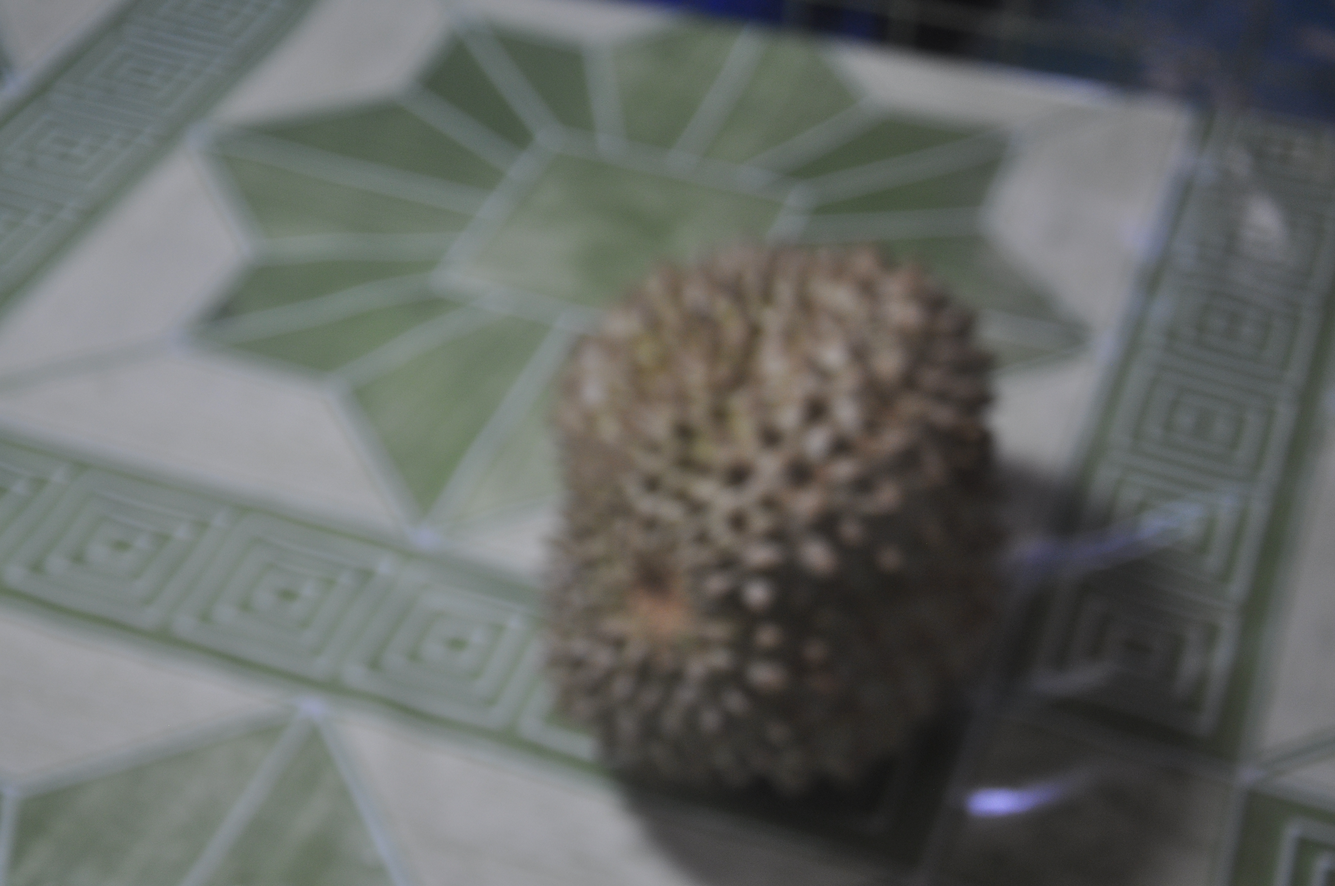mature: (509, 220, 1040, 837)
